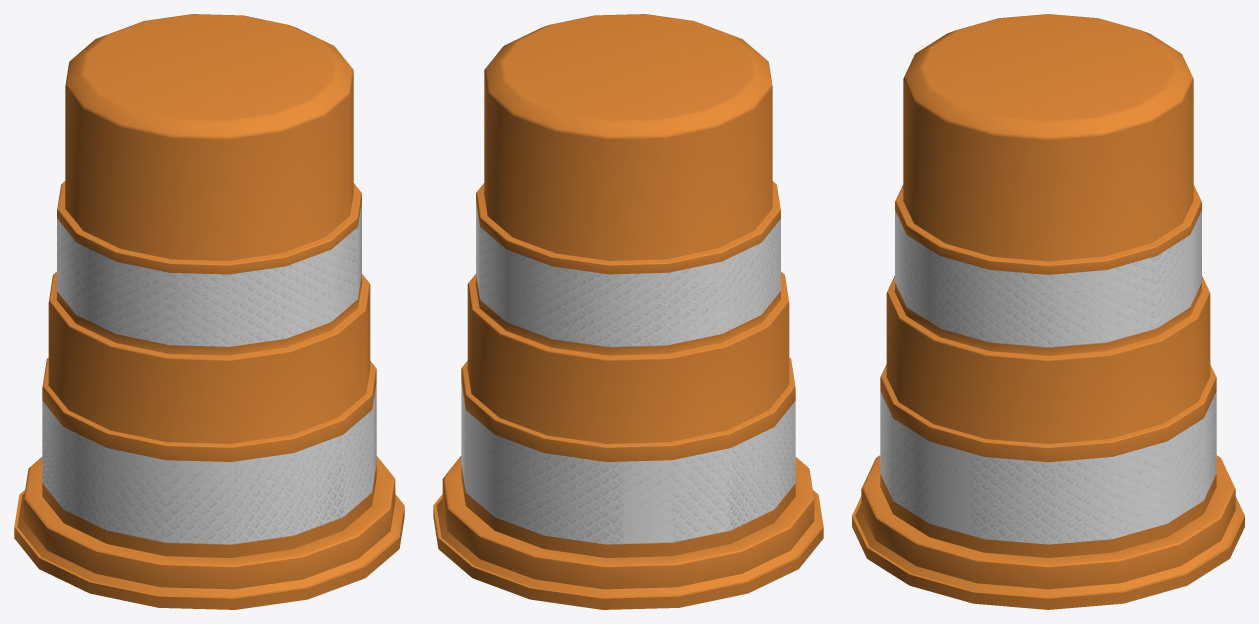
Rendered from barrel.fbx.
3 views of the same model, side by side, from view 1: azimuth 30°, elevation 25°; view 2: azimuth 150°, elevation 25°; view 3: azimuth 270°, elevation 25° (orthographic).
Visible parts, largest first — view 1: Barrel; view 2: Barrel; view 3: Barrel.
Boxes of the visible parts, <box> form: Barrel: <box>14,14,404,609</box>; Barrel: <box>433,14,823,609</box>; Barrel: <box>852,14,1244,609</box>.
Bounding box in the file's own units: 234 × 301 × 234.
1 material, 1 textured.
